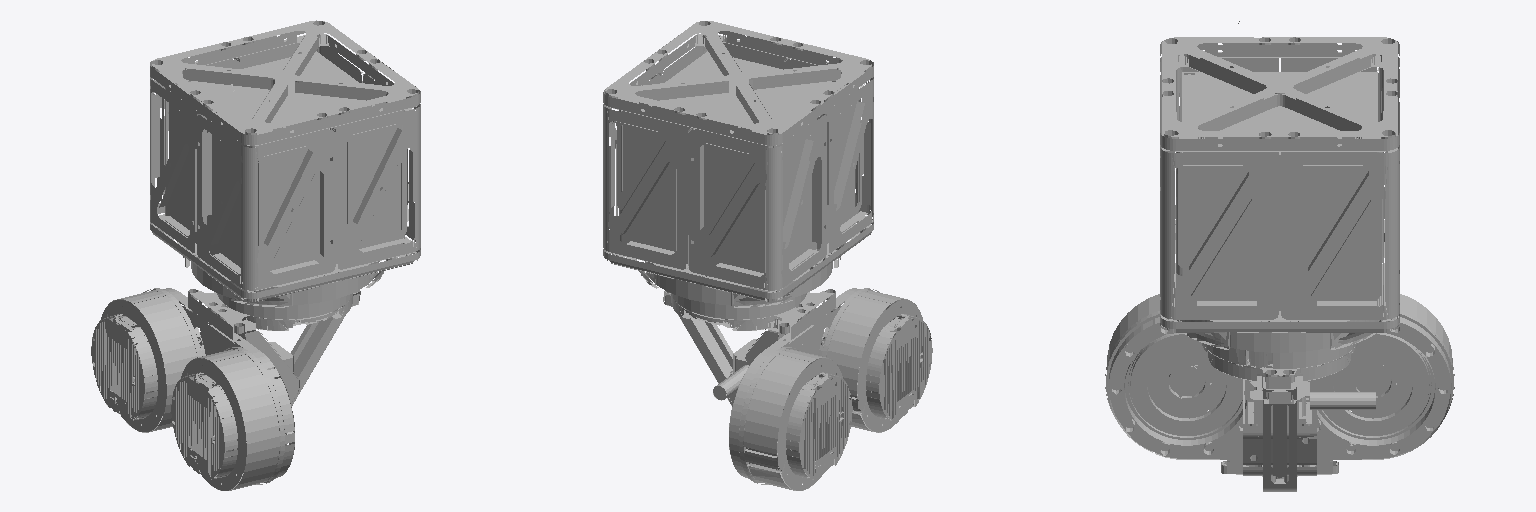
The robot description file, URDF, robot "PTR1T1":
<?xml version="1.0" encoding="utf-8"?>

<!-- 01142025-alpha-1 -->

<robot
  name="PTR1T1">
  <link
    name="base_link">
    <inertial>
      <origin
        xyz="0.0116208 8.653E-05 0.06561291"
        rpy="0 0 0" />
      <mass
        value="10.319" />
      <inertia
        ixx="0.14872683"
        ixy="-5.245E-05"
        ixz="0.04622714"
        iyy="0.12839444"
        iyz="-0.00106039"
        izz="0.14615884" />
    </inertial>
    <visual>
      <origin
        xyz="0 0 0"
        rpy="0 0 0" />
      <geometry>
        <mesh
          filename="../meshes/base_link.STL" />
      </geometry>
      <material
        name="">
        <color
          rgba="0.75294 0.75294 0.75294 1" />
      </material>
    </visual>
    <collision>
      <origin
        xyz="0 0 0"
        rpy="0 0 0" />
      <geometry>
        <mesh
          filename="../meshes/base_link.STL" />
      </geometry>
    </collision>
  </link>
  <link
    name="left_hip_link">
    <inertial>
      <origin
        xyz="-0.070687 0.085298 0.00016397"
        rpy="0 0 0" />
      <mass
        value="2.247" />
      <inertia
        ixx="0.0020765"
        ixy="0.001137"
        ixz="5.6E-07"
        iyy="0.0013657"
        iyz="-4.66E-06"
        izz="0.0028816" />
    </inertial>
    <visual>
      <origin
        xyz="0 0 0"
        rpy="0 0 0" />
      <geometry>
        <mesh
          filename="../meshes/left_hip_link.STL" />
      </geometry>
      <material
        name="">
        <color
          rgba="0.89804 0.91765 0.92941 1" />
      </material>
    </visual>
    <collision>
      <origin
        xyz="0 0 0"
        rpy="0 0 0" />
      <geometry>
        <mesh
          filename="../meshes/left_hip_link.STL" />
      </geometry>
    </collision>
  </link>
  <joint
    name="left_hip_joint"
    type="revolute">
    <origin
      xyz="0 0.1125 0"
      rpy="0 0 0" />
    <parent
      link="base_link" />
    <child
      link="left_hip_link" />
    <axis
      xyz="1 0 0" />
    <limit
      lower="0"
      upper="0"
      effort="0"
      velocity="0" />
  </joint>
  <link
    name="left_thigh_link">
    <inertial>
      <origin
        xyz="-0.025878 -0.056337 -0.035531"
        rpy="0 0 0" />
      <mass
        value="3.072" />
      <inertia
        ixx="0.021873"
        ixy="0.0042332"
        ixz="-0.010541"
        iyy="0.024443"
        iyz="0.0057227"
        izz="0.014258" />
    </inertial>
    <visual>
      <origin
        xyz="0 0 0"
        rpy="0 0 0" />
      <geometry>
        <mesh
          filename="../meshes/left_thigh_link.STL" />
      </geometry>
      <material
        name="">
        <color
          rgba="0.75294 0.75294 0.75294 1" />
      </material>
    </visual>
    <collision>
      <origin
        xyz="0 0 0"
        rpy="0 0 0" />
      <geometry>
        <mesh
          filename="../meshes/left_thigh_link.STL" />
      </geometry>
    </collision>
  </link>
  <joint
    name="left_thigh_joint"
    type="revolute">
    <origin
      xyz="-0.078 0 0"
      rpy="0 0 0" />
    <parent
      link="left_hip_link" />
    <child
      link="left_thigh_link" />
    <axis
      xyz="0 1 0" />
    <limit
      lower="0"
      upper="0"
      effort="0"
      velocity="0" />
  </joint>
  <link
    name="left_knee_link">
    <inertial>
      <origin
        xyz="0.11826 -0.00094983 -0.20112"
        rpy="0 0 0" />
      <mass
        value="1.423" />
      <inertia
        ixx="0.012376"
        ixy="3.92E-05"
        ixz="0.006681"
        iyy="0.016184"
        iyz="-7.213E-05"
        izz="0.0045376" />
    </inertial>
    <visual>
      <origin
        xyz="0 0 0"
        rpy="0 0 0" />
      <geometry>
        <mesh
          filename="../meshes/left_shank_link.STL" />
      </geometry>
      <material
        name="">
        <color
          rgba="0.89804 0.91765 0.92941 1" />
      </material>
    </visual>
    <collision>
      <origin
        xyz="0 0 0"
        rpy="0 0 0" />
      <geometry>
        <mesh
          filename="../meshes/left_shank_link.STL" />
      </geometry>
    </collision>
  </link>
  <joint
    name="left_knee_joint"
    type="revolute">
    <origin
      xyz="-0.15 0 -0.25981"
      rpy="0 0 0" />
    <parent
      link="left_thigh_link" />
    <child
      link="left_knee_link" />
    <axis
      xyz="0 1 0" />
    <limit
      lower="0"
      upper="0"
      effort="0"
      velocity="0" />
  </joint>
  <link
    name="left_foot_link">
    <inertial>
      <origin
        xyz="0 0.007525 -0.030732"
        rpy="0 0 0" />
      <mass
        value="0.476" />
      <inertia
        ixx="0.00033909"
        ixy="-1E-08"
        ixz="-3E-08"
        iyy="0.0015741"
        iyz="-7.497E-05"
        izz="0.0016725" />
    </inertial>
    <visual>
      <origin
        xyz="0 0 0"
        rpy="0 0 0" />
      <geometry>
        <mesh
          filename="../meshes/left_foot_link.STL" />
      </geometry>
      <material
        name="">
        <color
          rgba="0.89804 0.91765 0.92941 1" />
      </material>
    </visual>
    <collision>
      <origin
        xyz="0 0 0"
        rpy="0 0 0" />
      <geometry>
        <mesh
          filename="../meshes/left_foot_link.STL" />
      </geometry>
    </collision>
  </link>
  <joint
    name="left_foot_joint"
    type="revolute">
    <origin
      xyz="0.15001 0 -0.2598"
      rpy="0 0 0" />
    <parent
      link="left_knee_link" />
    <child
      link="left_foot_link" />
    <axis
      xyz="0 1 0" />
    <limit
      lower="0"
      upper="0"
      effort="0"
      velocity="0" />
  </joint>
  <link
    name="right_hip_link">
    <inertial>
      <origin
        xyz="-0.070687 -0.085298 -0.00016397"
        rpy="0 0 0" />
      <mass
        value="2.247" />
      <inertia
        ixx="0.0020765"
        ixy="-0.001137"
        ixz="-5.6E-07"
        iyy="0.0013657"
        iyz="-4.66E-06"
        izz="0.0028816" />
    </inertial>
    <visual>
      <origin
        xyz="0 0 0"
        rpy="0 0 0" />
      <geometry>
        <mesh
          filename="../meshes/right_hip_link.STL" />
      </geometry>
      <material
        name="">
        <color
          rgba="0.89804 0.91765 0.92941 1" />
      </material>
    </visual>
    <collision>
      <origin
        xyz="0 0 0"
        rpy="0 0 0" />
      <geometry>
        <mesh
          filename="../meshes/right_hip_link.STL" />
      </geometry>
    </collision>
  </link>
  <joint
    name="right_hip_joint"
    type="revolute">
    <origin
      xyz="0 -0.1125 0"
      rpy="0 0 0" />
    <parent
      link="base_link" />
    <child
      link="right_hip_link" />
    <axis
      xyz="1 0 0" />
    <limit
      lower="0"
      upper="0"
      effort="0"
      velocity="0" />
  </joint>
  <link
    name="right_thigh_link">
    <inertial>
      <origin
        xyz="-0.025873 0.056341 -0.035287"
        rpy="0 0 0" />
      <mass
        value="3.072" />
      <inertia
        ixx="0.02192"
        ixy="-0.0042319"
        ixz="-0.010563"
        iyy="0.024491"
        iyz="-0.0057466"
        izz="0.014256" />
    </inertial>
    <visual>
      <origin
        xyz="0 0 0"
        rpy="0 0 0" />
      <geometry>
        <mesh
          filename="../meshes/right_thigh_link.STL" />
      </geometry>
      <material
        name="">
        <color
          rgba="0.75294 0.75294 0.75294 1" />
      </material>
    </visual>
    <collision>
      <origin
        xyz="0 0 0"
        rpy="0 0 0" />
      <geometry>
        <mesh
          filename="../meshes/right_thigh_link.STL" />
      </geometry>
    </collision>
  </link>
  <joint
    name="right_thigh_joint"
    type="revolute">
    <origin
      xyz="-0.078 0 0"
      rpy="0 0 0" />
    <parent
      link="right_hip_link" />
    <child
      link="right_thigh_link" />
    <axis
      xyz="0 1 0" />
    <limit
      lower="0"
      upper="0"
      effort="0"
      velocity="0" />
  </joint>
  <link
    name="right_knee_link">
    <inertial>
      <origin
        xyz="0.11827 0.001241 -0.20111"
        rpy="0 0 0" />
      <mass
        value="1.423" />
      <inertia
        ixx="0.01238"
        ixy="-5.173E-05"
        ixz="0.0066804"
        iyy="0.016183"
        iyz="9.712E-05"
        izz="0.0045358" />
    </inertial>
    <visual>
      <origin
        xyz="0 0 0"
        rpy="0 0 0" />
      <geometry>
        <mesh
          filename="../meshes/right_shank_link.STL" />
      </geometry>
      <material
        name="">
        <color
          rgba="0.89804 0.91765 0.92941 1" />
      </material>
    </visual>
    <collision>
      <origin
        xyz="0 0 0"
        rpy="0 0 0" />
      <geometry>
        <mesh
          filename="../meshes/right_shank_link.STL" />
      </geometry>
    </collision>
  </link>
  <joint
    name="right_knee_joint"
    type="revolute">
    <origin
      xyz="-0.15 0 -0.25981"
      rpy="0 0 0" />
    <parent
      link="right_thigh_link" />
    <child
      link="right_knee_link" />
    <axis
      xyz="0 1 0" />
    <limit
      lower="0"
      upper="0"
      effort="0"
      velocity="0" />
  </joint>
  <link
    name="right_foot_link">
    <inertial>
      <origin
        xyz="0 -0.0070117 -0.030732"
        rpy="0 0 0" />
      <mass
        value="0.476" />
      <inertia
        ixx="0.00033909"
        ixy="-1E-08"
        ixz="-4E-08"
        iyy="0.0015741"
        iyz="7.497E-05"
        izz="0.0016725" />
    </inertial>
    <visual>
      <origin
        xyz="0 0 0"
        rpy="0 0 0" />
      <geometry>
        <mesh
          filename="../meshes/right_foot_link.STL" />
      </geometry>
      <material
        name="">
        <color
          rgba="0.89804 0.91765 0.92941 1" />
      </material>
    </visual>
    <collision>
      <origin
        xyz="0 0 0"
        rpy="0 0 0" />
      <geometry>
        <mesh
          filename="../meshes/right_foot_link.STL" />
      </geometry>
    </collision>
  </link>
  <joint
    name="right_foot_joint"
    type="revolute">
    <origin
      xyz="0.15001 0 -0.2598"
      rpy="0 0 0" />
    <parent
      link="right_knee_link" />
    <child
      link="right_foot_link" />
    <axis
      xyz="0 1 0" />
    <limit
      lower="0"
      upper="0"
      effort="0"
      velocity="0" />
  </joint>
</robot>

--- Facts derived from the render (not from the file) ---
The picture shows the robot from 3 angles, left to right: view 1: azimuth 30°, elevation 25°; view 2: azimuth 150°, elevation 25°; view 3: azimuth 270°, elevation 25°; orthographic projection.
Robot: PTR1T1 — 9 links, 8 joints (8 revolute); root link base_link; default pose: every joint at zero.
Links seen in each view (by area): view 1: base_link; view 2: base_link; view 3: base_link.
Boxes of the visible links, x1,y1,x2,y2 form: base_link: [91, 20, 420, 490]; base_link: [603, 21, 932, 490]; base_link: [1105, 21, 1454, 491].
Bounding box of the posed robot: 0.2187 × 0.263 × 0.3735 m (x, y, z).
Meshes: 9 distinct files referenced, 1 mesh visuals loaded (1 binary STL); not drawn: 8 (reference not matched to a file when rendering).